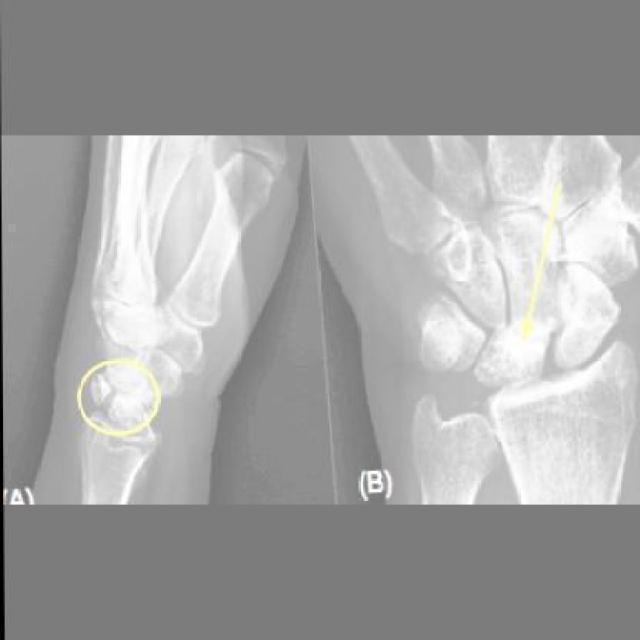bone: (488, 325, 546, 368), (94, 371, 129, 417)
